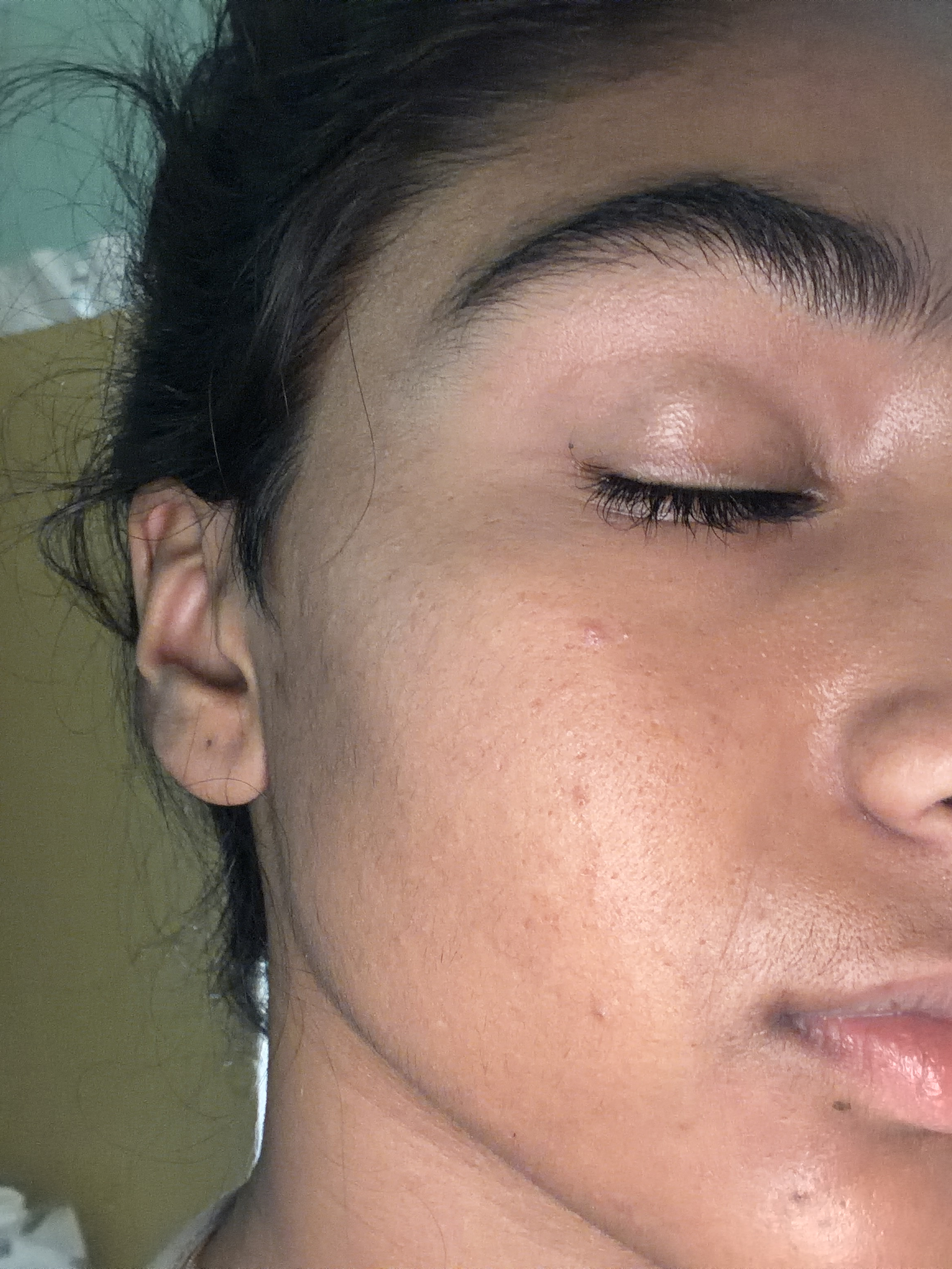closed_comedone: (326, 607, 379, 648)
papule: (581, 620, 607, 647), (569, 782, 589, 809), (594, 1008, 609, 1021), (794, 1191, 807, 1203)
pustule: (622, 631, 631, 638)
